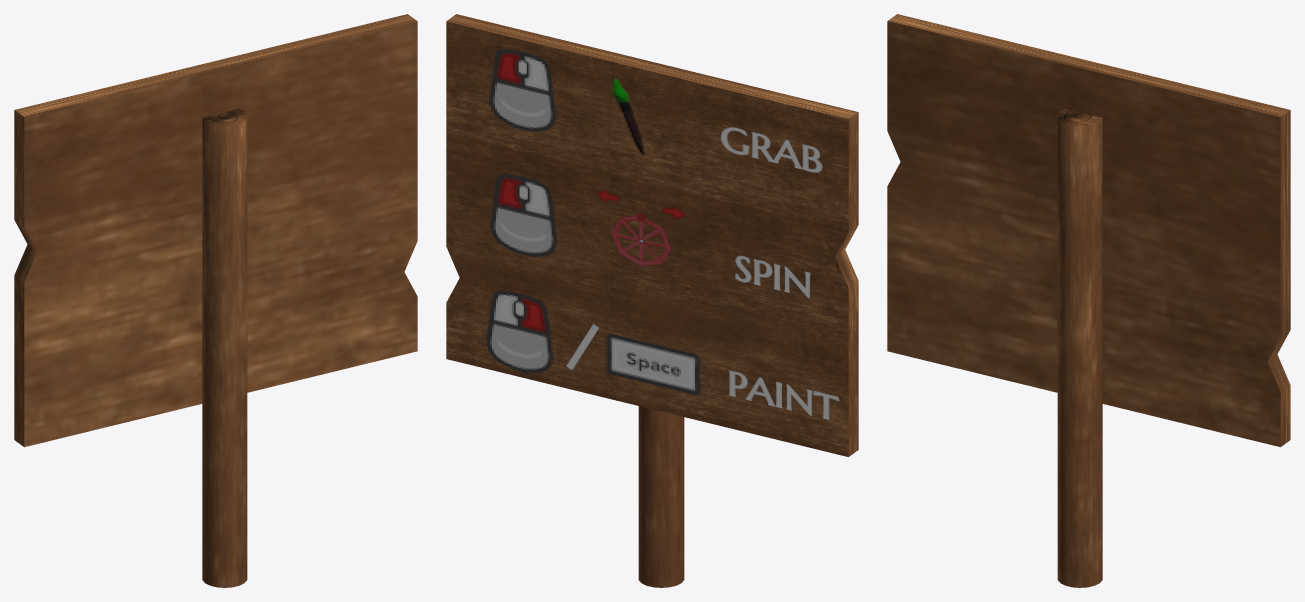
File: Paintable_Sign.fbx
3 renders of one model, left to right at view 1: azimuth 30°, elevation 25°; view 2: azimuth 150°, elevation 25°; view 3: azimuth 330°, elevation 25°, orthographic. The views are drawn at different scales.
Parts seen in each view (by area): view 1: Paintable_Sign_LOD0; view 2: Paintable_Sign_LOD0; view 3: Paintable_Sign_LOD0.
Part boxes in pixels (x1,y1,x2,y2): Paintable_Sign_LOD0: [14, 14, 417, 587]; Paintable_Sign_LOD0: [446, 14, 858, 587]; Paintable_Sign_LOD0: [887, 14, 1290, 587].
Bounding box in the file's own units: 1.06 × 0.1162 × 1.3.
